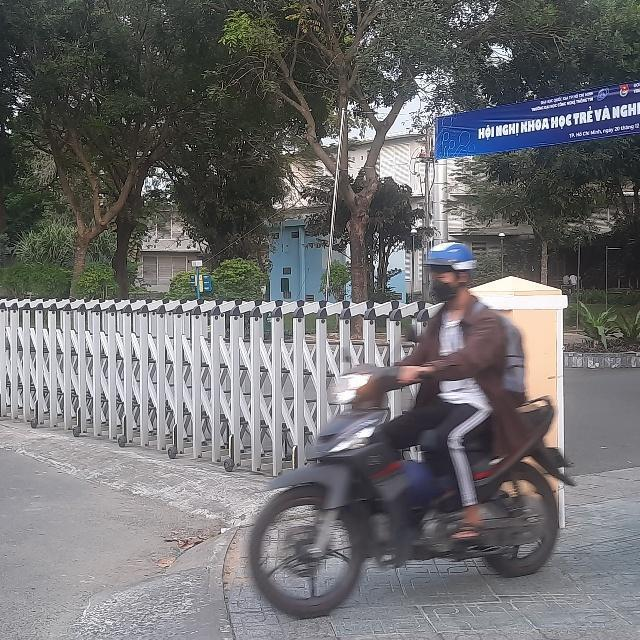Helmet: (422, 241, 478, 303)
